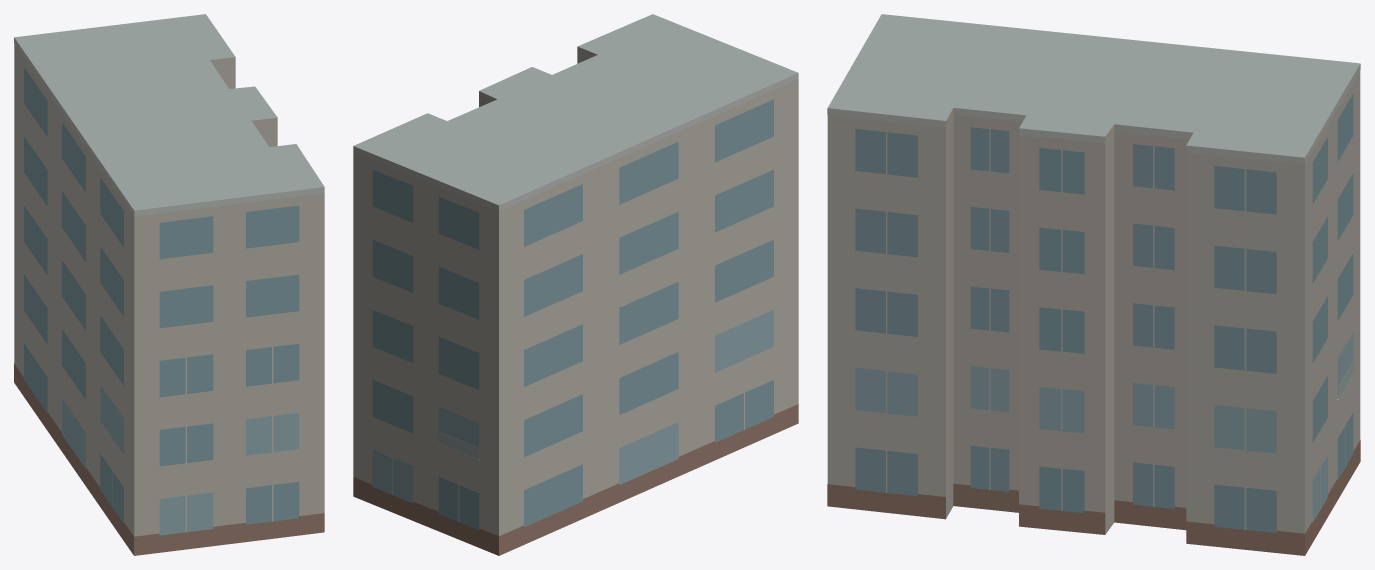
File: survey-upis-32870209.glb
The picture shows the model from 3 angles, left to right: view 1: azimuth 30°, elevation 25°; view 2: azimuth 150°, elevation 25°; view 3: azimuth 270°, elevation 25°; orthographic projection. The views are drawn at different scales.
Visible parts, largest first — view 1: survey-upis-32870209.tmp; view 2: survey-upis-32870209.tmp; view 3: survey-upis-32870209.tmp.
Part boxes in pixels (x1,y1,x2,y2): survey-upis-32870209.tmp: (14, 14, 324, 555); survey-upis-32870209.tmp: (353, 14, 798, 555); survey-upis-32870209.tmp: (827, 14, 1360, 555).
Bounding box in the file's own units: 11 × 14.2 × 17.24.
